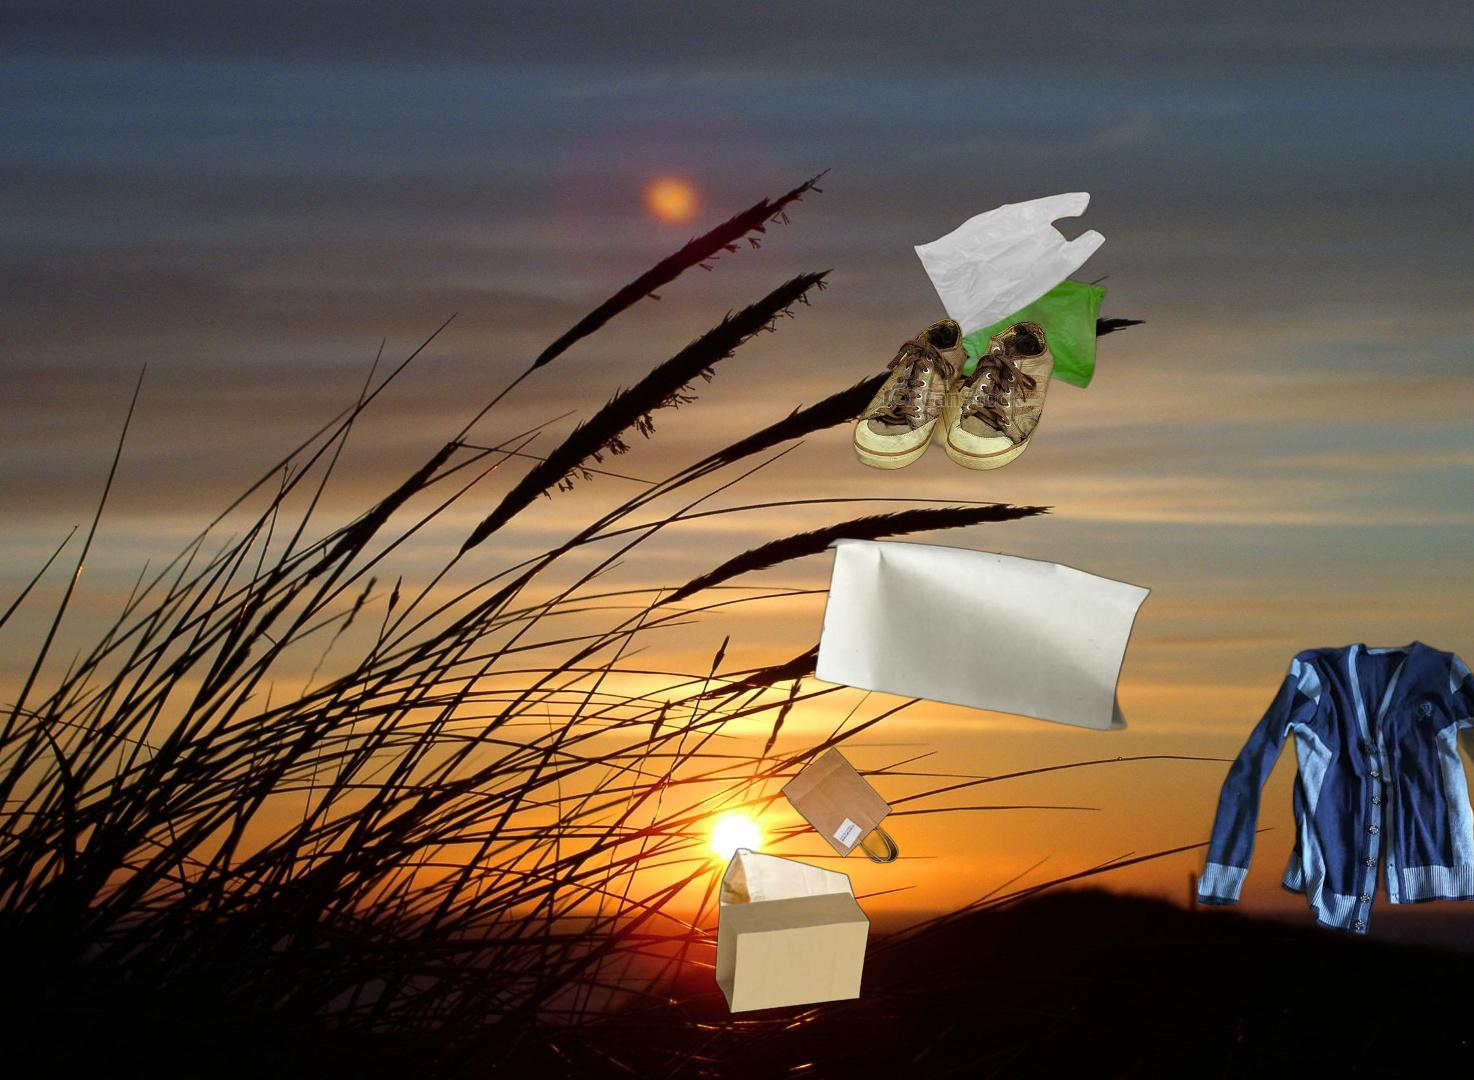clothes: (1198, 637, 1474, 939)
paper: (809, 534, 1155, 734)
paper-bag: (697, 745, 902, 1037)
plastic-bag: (911, 189, 1108, 390)
shoes: (850, 316, 1059, 472)
